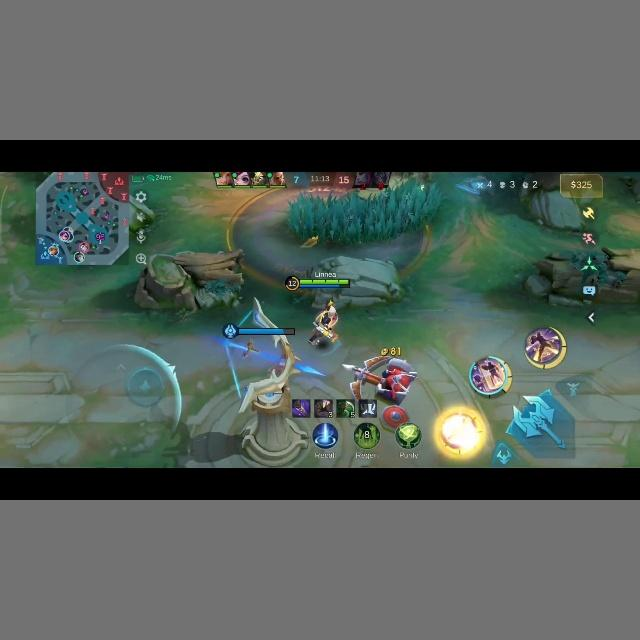hp_self: (222, 324, 298, 338), (287, 276, 355, 290)
minion_enemy: (375, 360, 418, 400), (342, 362, 383, 400)
turret_ally: (225, 342, 312, 462)
